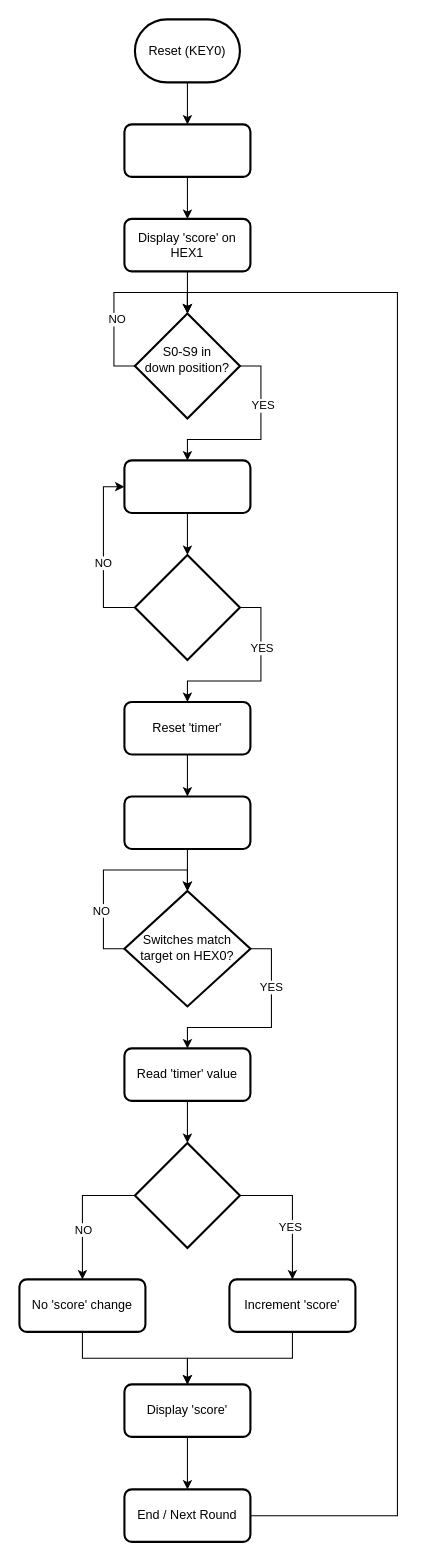
Some shapes in this 424 by 1560 pixel diagram are drawn without their labels. Each missing label, with the centre of its shape:
"'timer' < 5s? (50 ticks)" belongs at (x=186, y=1194).
"Any switch in UP position?" belongs at (x=186, y=606).
"Call LFSR repeatedly while S0-S9 DOWN" belongs at (x=187, y=486).
"Display random value on HEX0" belongs at (x=187, y=822).
"Initialize 'score' = 0" belongs at (x=187, y=150).
